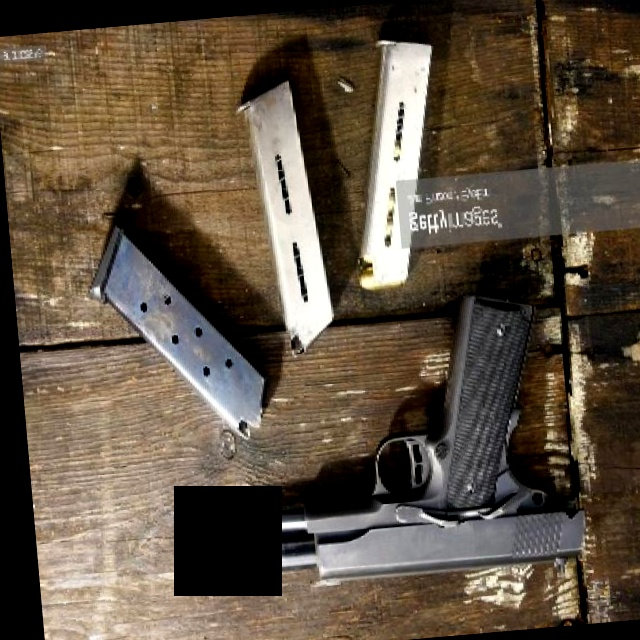gun: (217, 291, 595, 599)
